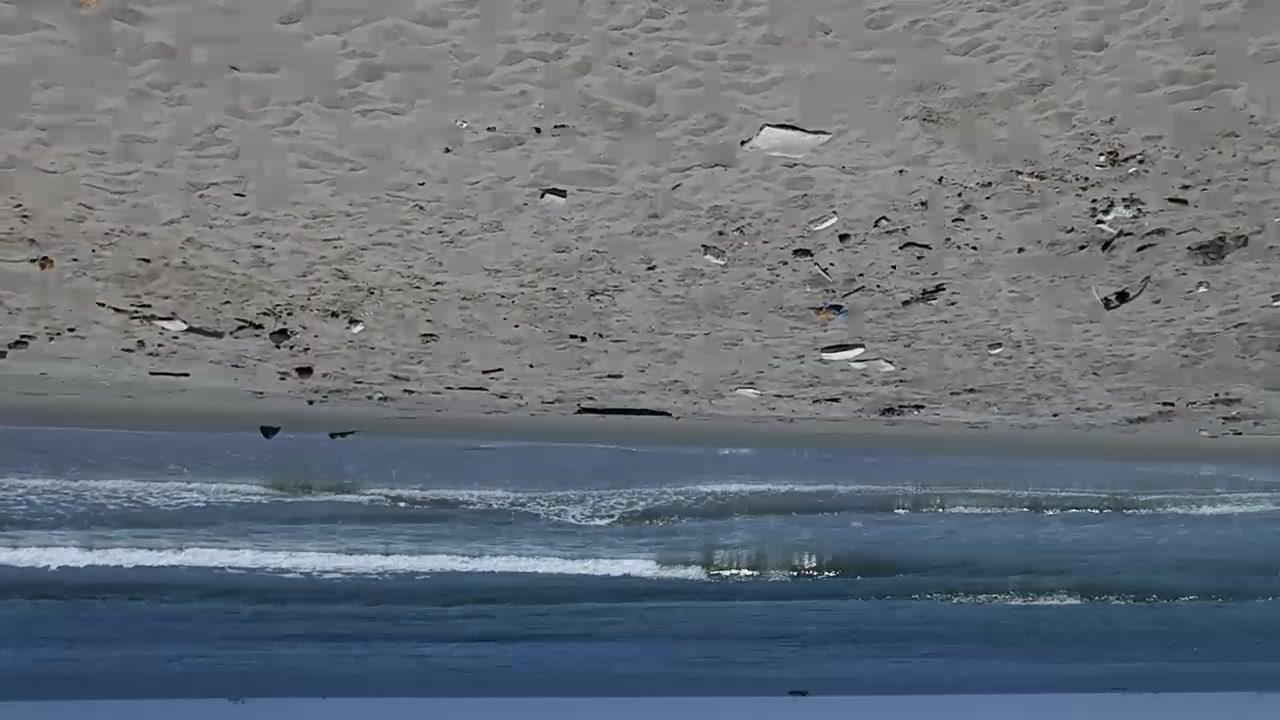large collection of objects: (539, 185, 573, 206)
obj: (740, 120, 833, 163), (1088, 194, 1146, 251), (1100, 276, 1151, 318), (1190, 233, 1249, 268), (566, 402, 680, 420), (0, 251, 59, 275), (849, 356, 900, 377), (820, 345, 865, 362), (705, 243, 731, 270), (148, 316, 186, 334), (811, 307, 852, 322), (810, 210, 839, 231), (344, 316, 368, 338), (258, 424, 281, 443), (292, 366, 318, 382), (328, 430, 358, 441), (987, 340, 1006, 356)
sand/background: (0, 425, 1279, 719)
